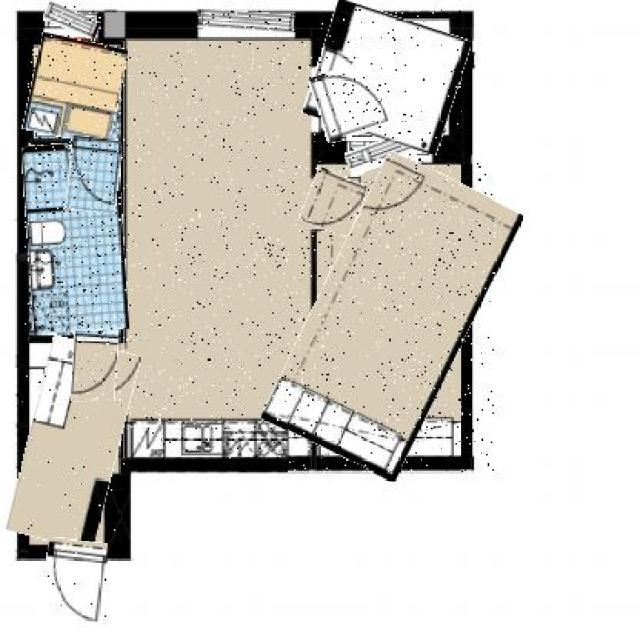door: (312, 62, 394, 138), (40, 538, 106, 631), (68, 138, 120, 212), (303, 172, 365, 234), (73, 332, 119, 402)
window: (346, 132, 434, 170), (197, 11, 295, 32), (45, 7, 100, 36)
zone: (123, 42, 312, 460), (288, 160, 495, 474), (19, 340, 130, 548), (309, 8, 465, 146), (25, 144, 126, 336), (26, 35, 123, 143)
